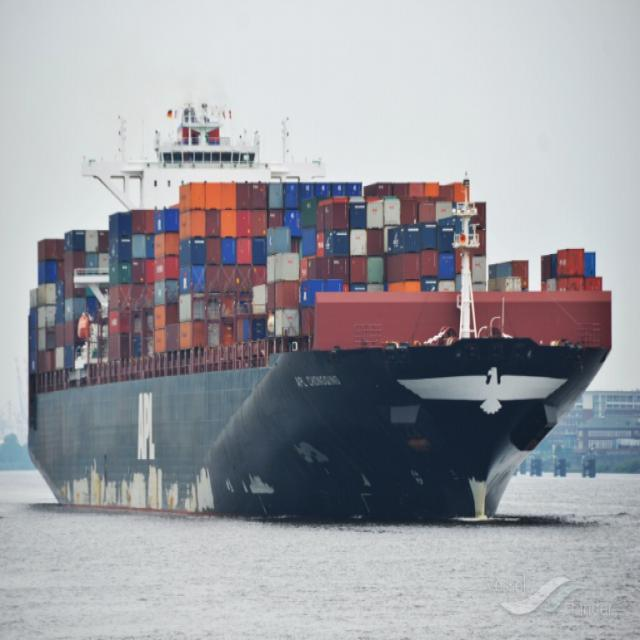Container Ship: (28, 103, 610, 521)
